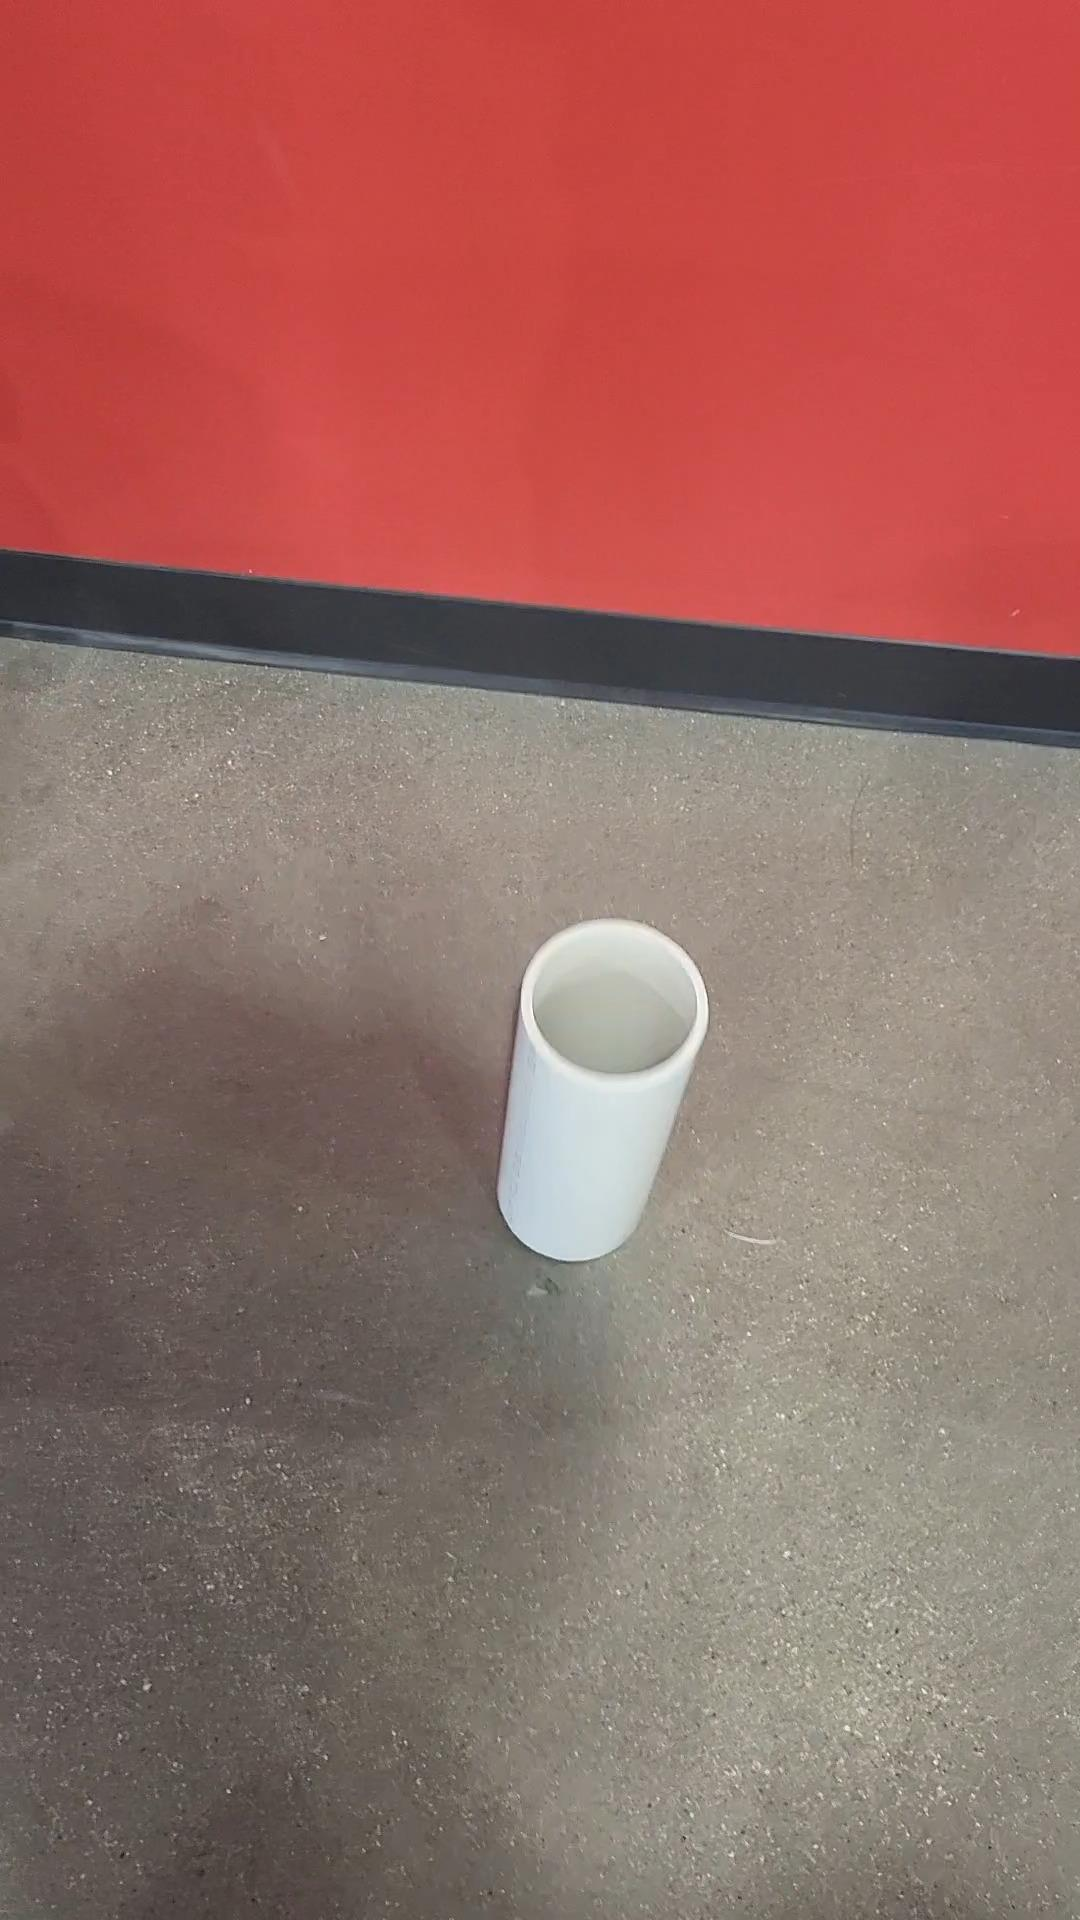coral: (496, 915, 709, 1266)
